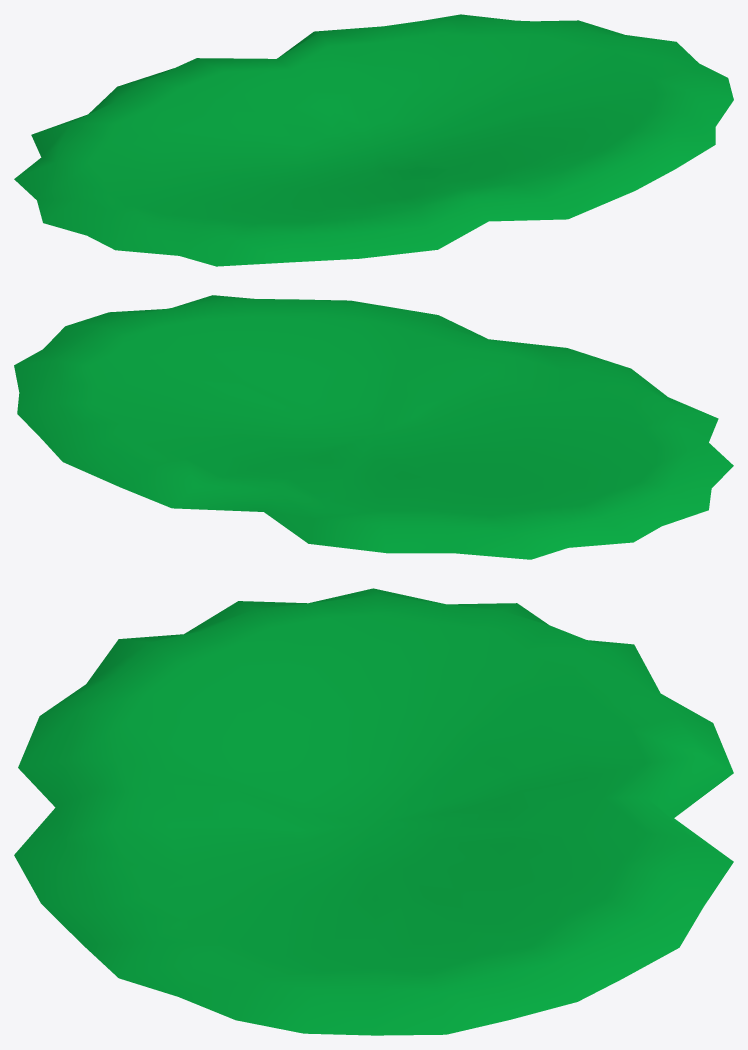
Rendered from LousLeaf_03.fbx.
3 views of the same model, one above another, from view 1: azimuth 30°, elevation 25°; view 2: azimuth 150°, elevation 25°; view 3: azimuth 270°, elevation 25° (orthographic). The views are drawn at different scales.
Parts seen in each view (by area): view 1: LousLeaf_3; view 2: LousLeaf_3; view 3: LousLeaf_3.
Boxes of the visible parts, <box> form: LousLeaf_3: <box>14,14,733,266</box>; LousLeaf_3: <box>14,295,733,559</box>; LousLeaf_3: <box>14,588,733,1035</box>.
Bounding box in the file's own units: 4.9 × 0.1654 × 3.33.
